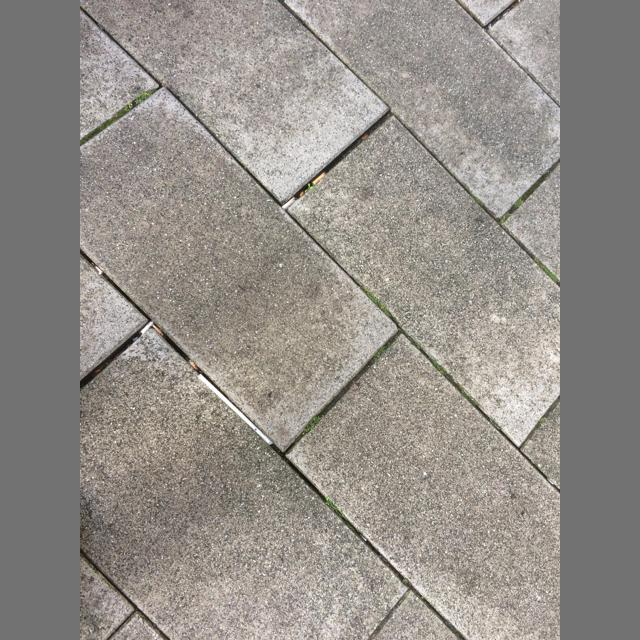litter: (198, 374, 273, 445), (139, 320, 154, 336), (281, 197, 295, 211), (311, 172, 326, 185), (91, 263, 102, 275), (152, 325, 163, 336), (187, 360, 198, 370)
